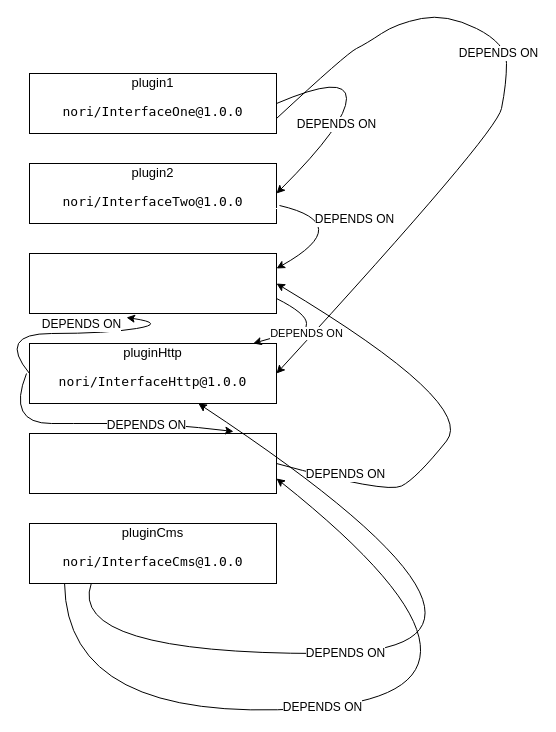
Some shapes in this 556 by 732 pixel diagram are drawn without their labels. The shapes that lost their labels are listed below. From the top down, each one's centre as x and y in pixels, then its label:
the point at 152,283: plugin3 nori/InterfaceThree@1.0.0
the point at 152,463: pluginSql nori/InterfaceSql@1.0.0
